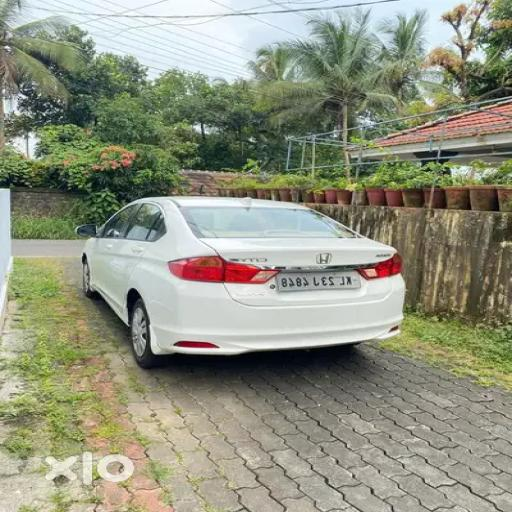License: (270, 266, 362, 294)
